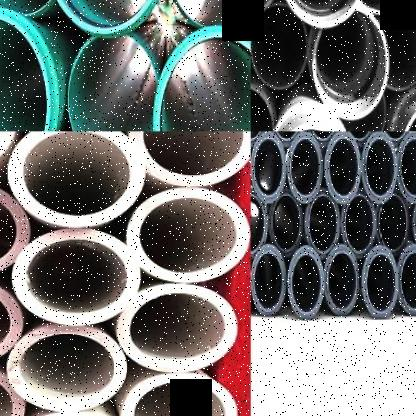pipe: (7, 131, 144, 228), (11, 229, 140, 326), (126, 188, 249, 282), (117, 284, 237, 372), (7, 326, 128, 412), (154, 34, 251, 131), (312, 5, 389, 121), (68, 36, 158, 131), (128, 132, 251, 188), (0, 14, 50, 131), (120, 373, 235, 416), (250, 4, 306, 89), (42, 0, 167, 33), (379, 8, 416, 92), (0, 180, 31, 277), (277, 0, 371, 28), (324, 131, 360, 204), (362, 247, 399, 318), (362, 132, 398, 203), (250, 244, 286, 315), (288, 247, 324, 318), (250, 132, 286, 202), (324, 245, 359, 316), (340, 190, 376, 258), (288, 133, 322, 203), (305, 190, 340, 258), (268, 188, 302, 256), (169, 0, 250, 27), (376, 191, 410, 255), (0, 276, 23, 364), (397, 244, 416, 315), (397, 132, 416, 202), (0, 365, 25, 416), (251, 190, 267, 258), (0, 0, 53, 16), (0, 131, 16, 175), (362, 0, 408, 13), (376, 131, 412, 147), (304, 131, 340, 147), (340, 132, 376, 146), (270, 132, 304, 146), (251, 0, 279, 13), (412, 188, 416, 258)
